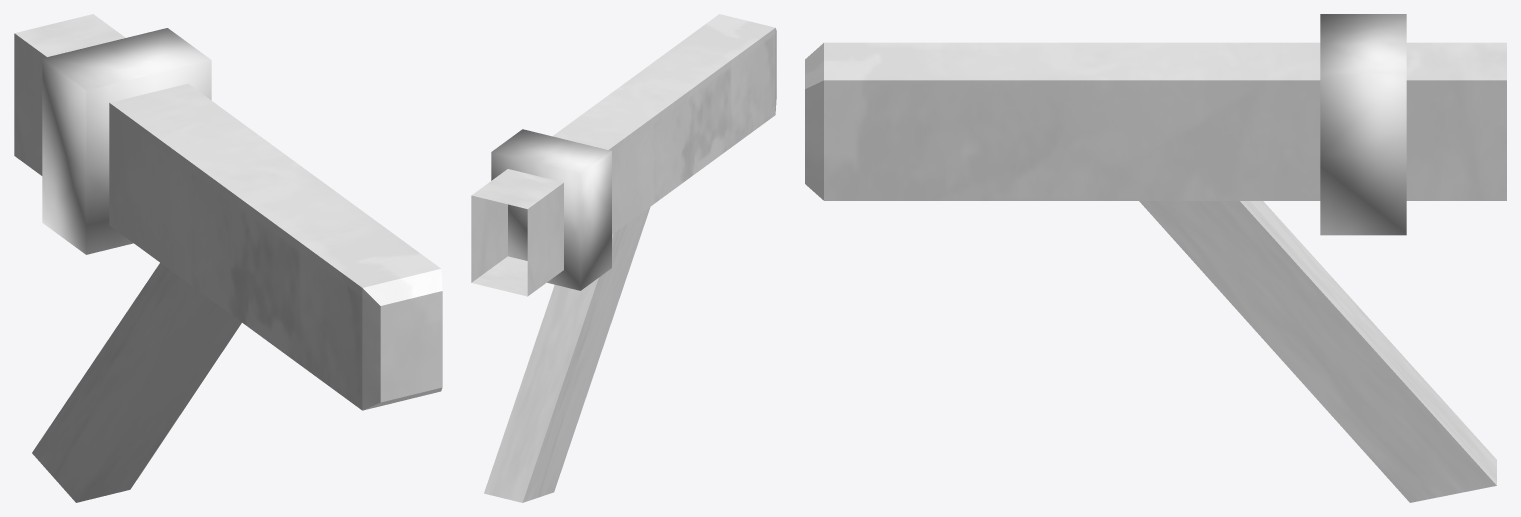
The model's file is WoodenSupport_large.fbx.
The picture shows the model from 3 angles, left to right: view 1: azimuth 30°, elevation 25°; view 2: azimuth 150°, elevation 25°; view 3: azimuth 270°, elevation 25°; orthographic projection. The views are drawn at different scales.
Parts seen in each view (by area): view 1: WoodenSupport_large; view 2: WoodenSupport_large; view 3: WoodenSupport_large.
Part boxes in pixels (<box>): WoodenSupport_large: <box>14,14,442,502</box>; WoodenSupport_large: <box>471,14,776,502</box>; WoodenSupport_large: <box>805,14,1506,502</box>.
Size of the model in its own units: 0.599 by 2.07 by 2.96.
